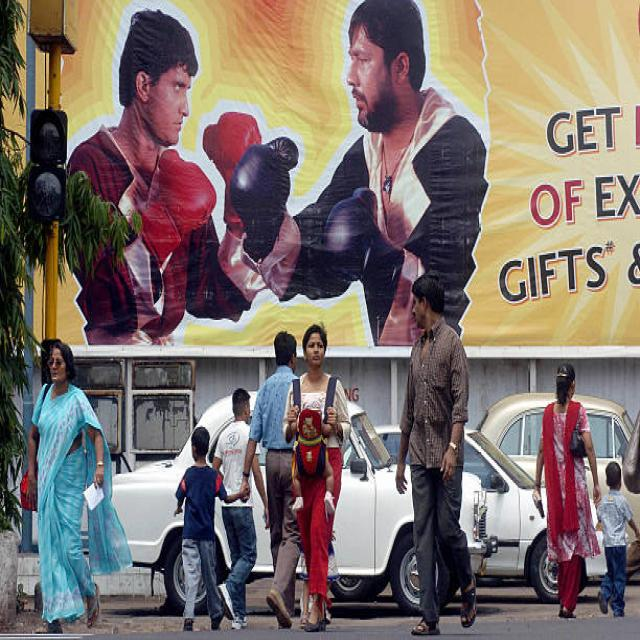Werbetafel frei: (0, 0, 639, 357)
